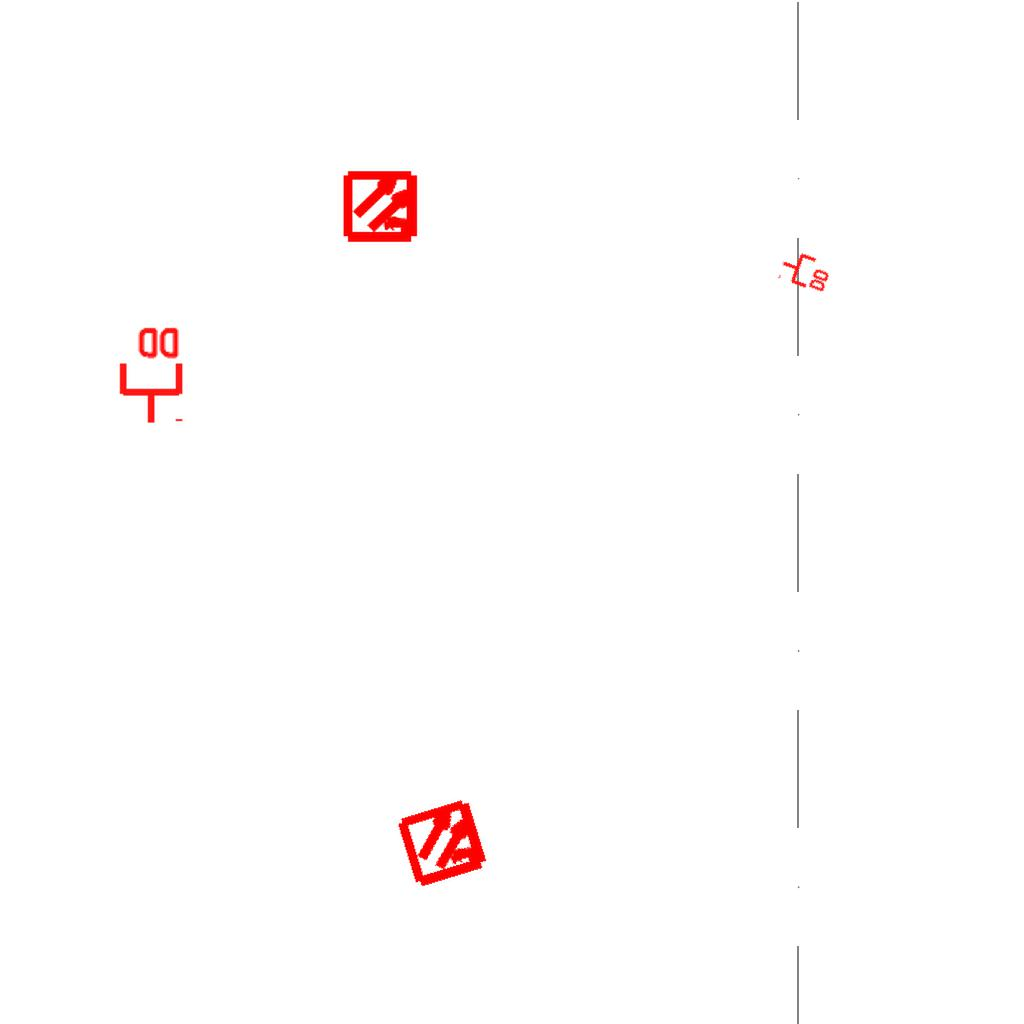Datenanschluss_zweifach: (115, 323, 184, 426), (776, 245, 836, 296)
OT_Multisensormelder_(Kombination_RMO_WMD): (373, 771, 516, 914), (326, 150, 439, 263)
